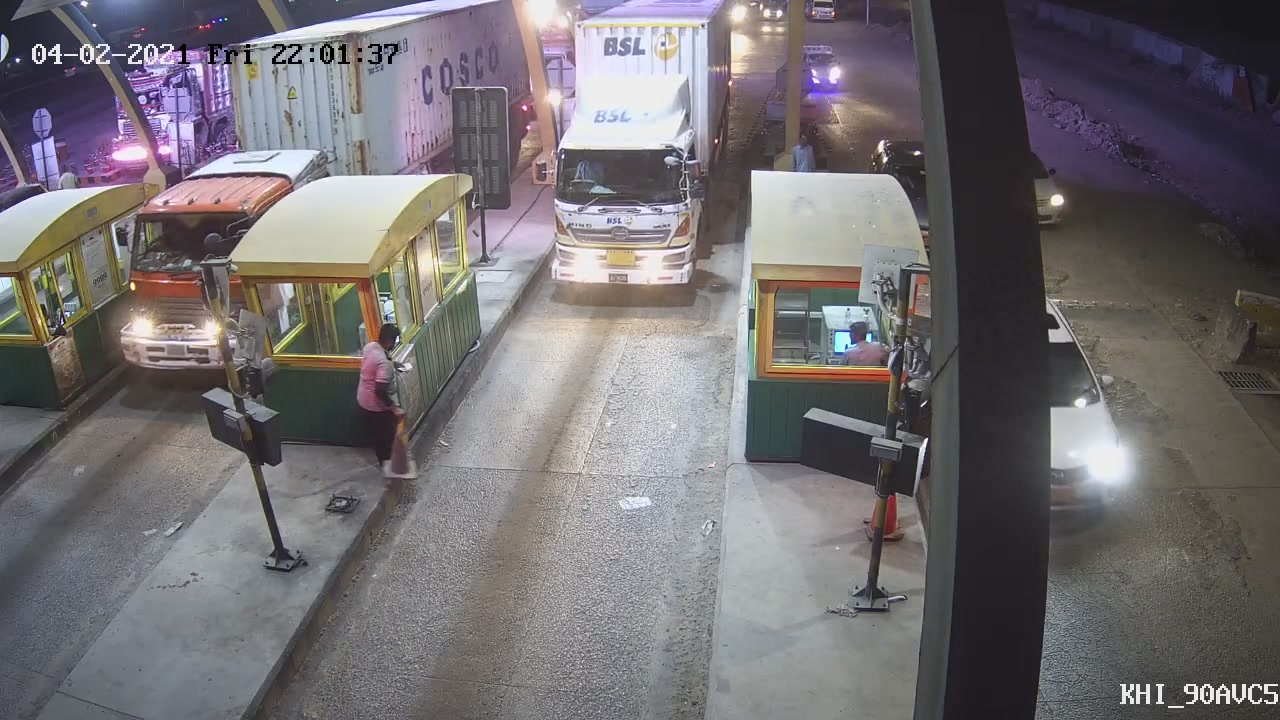F6: (519, 1, 740, 298)
